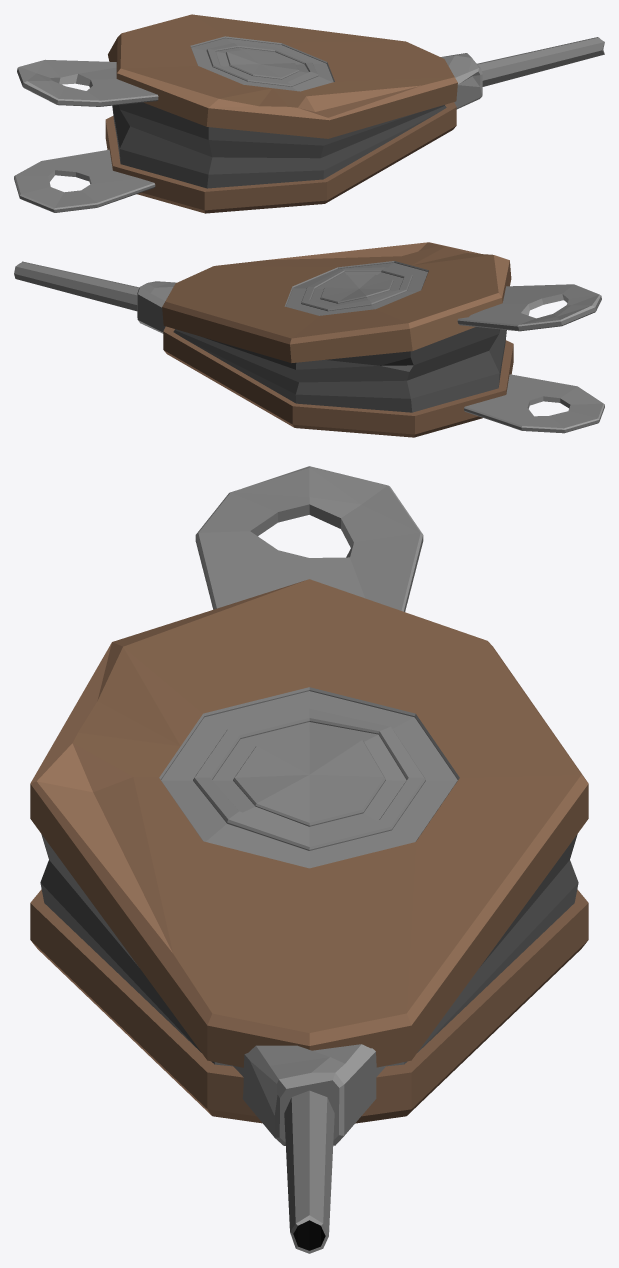
The model's file is Bellows.fbx.
3 views of the same model, one above another, from view 1: azimuth 30°, elevation 25°; view 2: azimuth 150°, elevation 25°; view 3: azimuth 270°, elevation 25° (orthographic). The views are drawn at different scales.
Parts seen in each view (by area): view 1: Bellows; view 2: Bellows; view 3: Bellows.
Part boxes in pixels (x1,y1,x2,y2): Bellows: (14, 14, 604, 213); Bellows: (14, 242, 604, 437); Bellows: (30, 466, 588, 1253).
Size of the model in its own units: 125 by 26.57 by 52.1.
